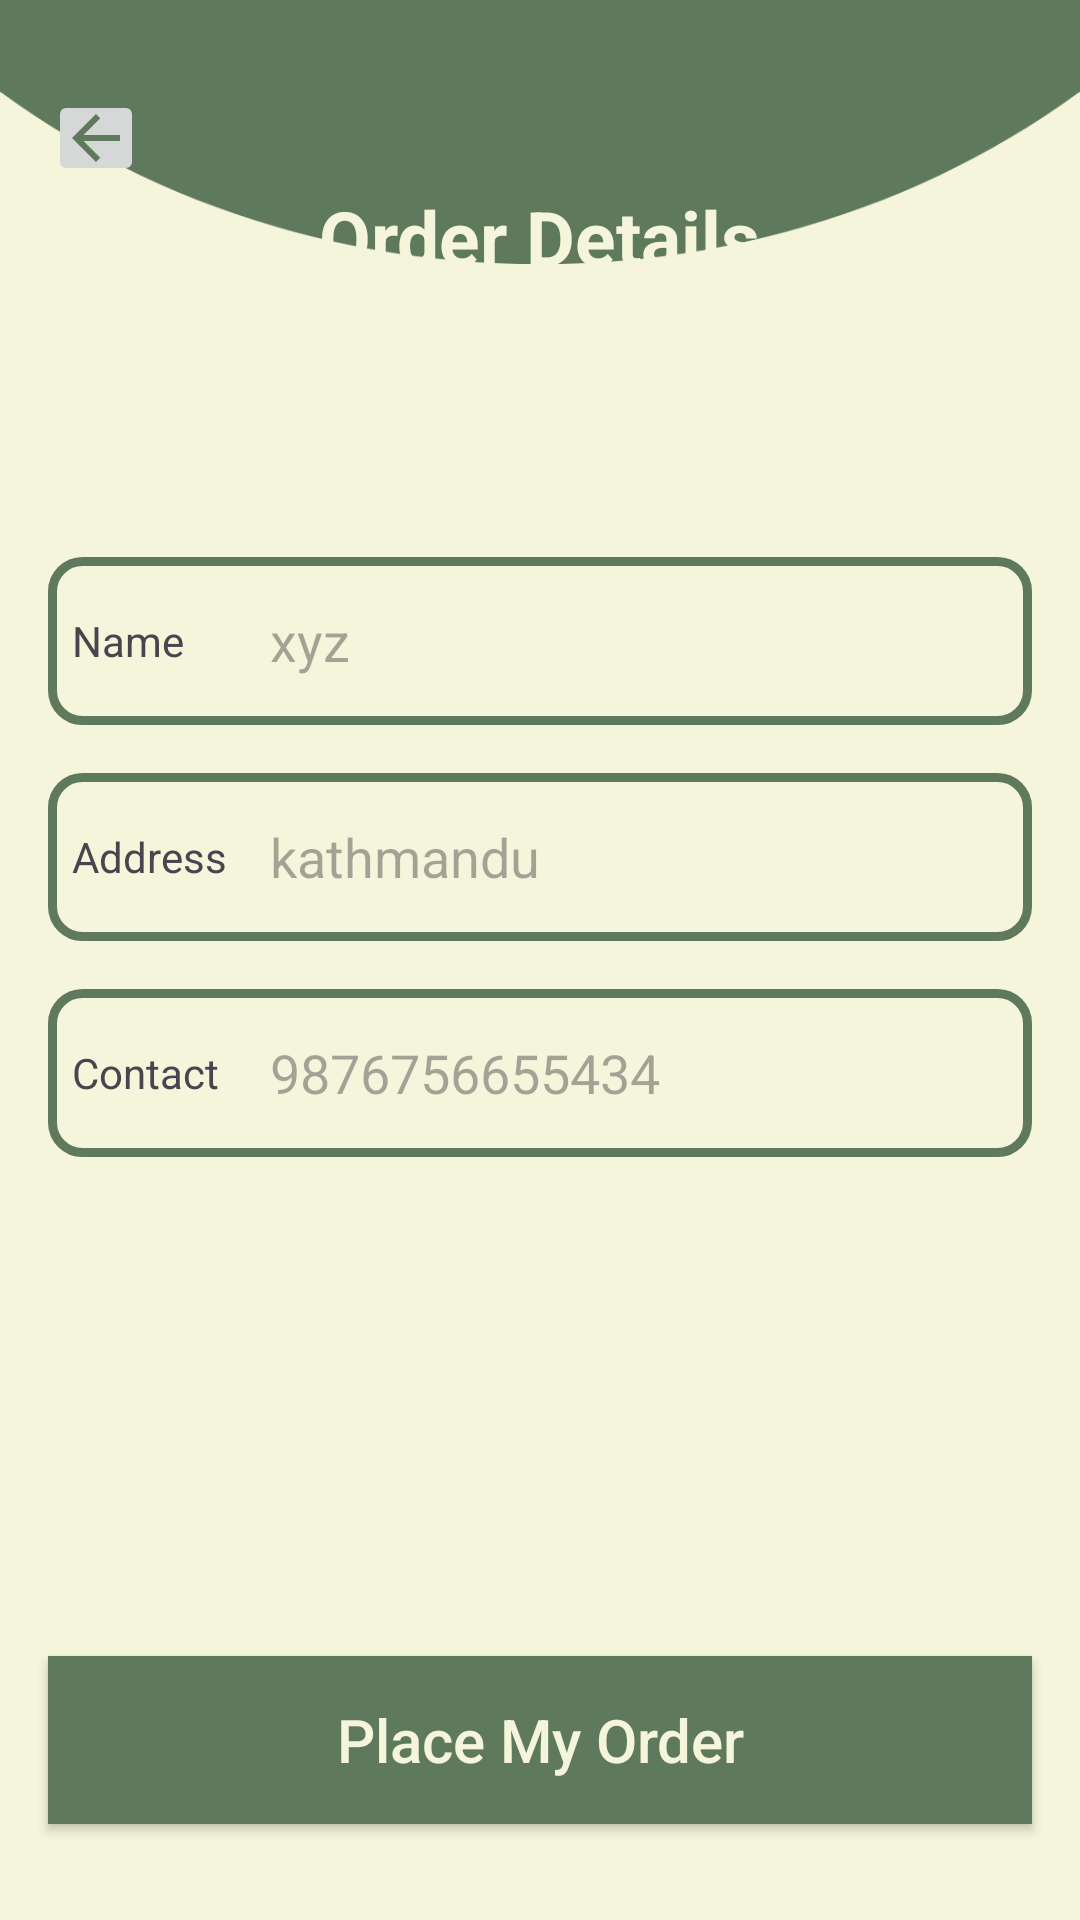

Icons on this 1080px×1920px Android screen, each with the point to tap as (x=x, y=y):
arrow back: (x=96, y=138)
